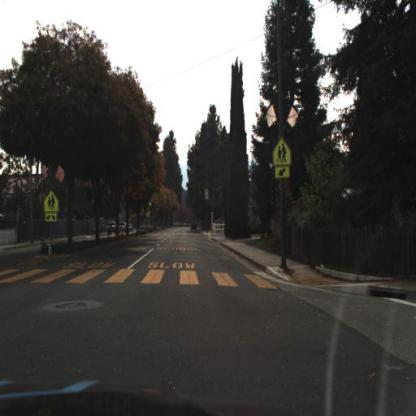car: (189, 217, 201, 233), (119, 223, 128, 234), (109, 223, 117, 235)
